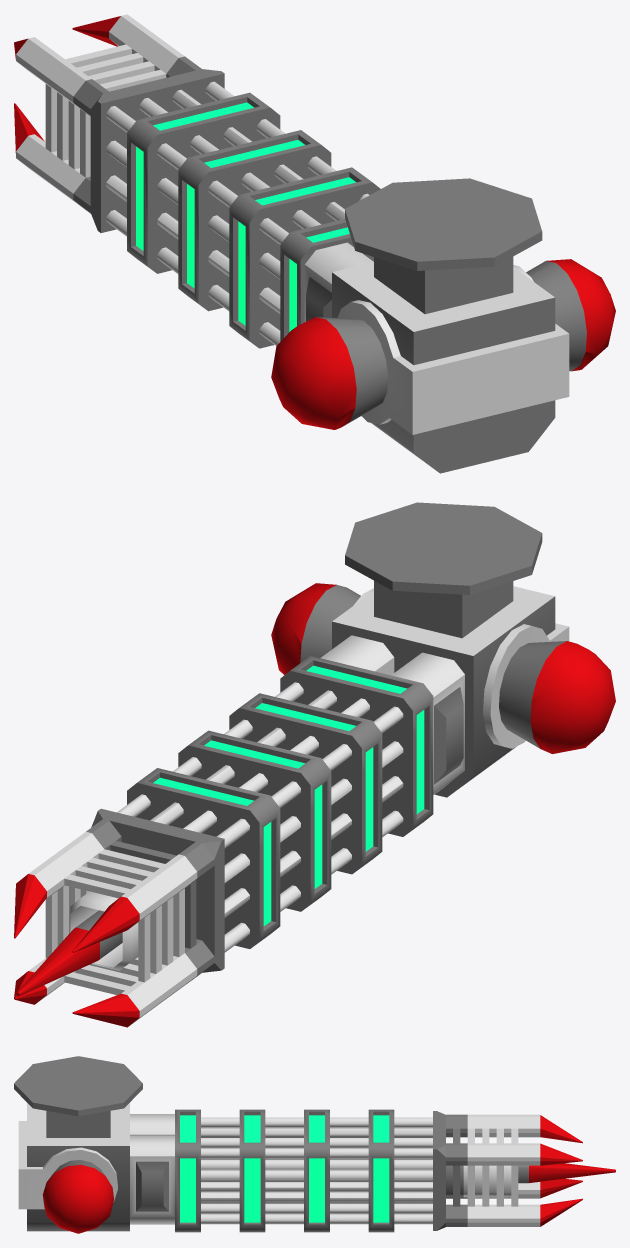
The model's file is 2_EMPWeapon1.fbx.
The picture shows the model from 3 angles, top to bottom: view 1: azimuth 30°, elevation 25°; view 2: azimuth 150°, elevation 25°; view 3: azimuth 270°, elevation 25°; orthographic projection. The views are drawn at different scales.
Visible parts, largest first — view 1: Barrel, Sides, MainBody, Mount, Tips, FrontTip; view 2: Barrel, Tips, Mount, Sides, MainBody, FrontTip; view 3: Barrel, Tips, MainBody, Mount, Sides, FrontTip.
Boxes of the visible parts, left/top/right/bottom form: Barrel: left=106, top=81, right=380, bottom=348; Sides: left=271, top=259, right=615, bottom=434; MainBody: left=304, top=242, right=555, bottom=473; Mount: left=345, top=178, right=542, bottom=314; Tips: left=14, top=14, right=201, bottom=213; FrontTip: left=90, top=69, right=224, bottom=232; Barrel: left=117, top=656, right=433, bottom=952; Tips: left=14, top=819, right=214, bottom=1027; Mount: left=345, top=502, right=542, bottom=638; Sides: left=271, top=583, right=615, bottom=753; MainBody: left=320, top=586, right=555, bottom=797; FrontTip: left=16, top=808, right=224, bottom=996; Barrel: left=175, top=1109, right=432, bottom=1232; Tips: left=446, top=1114, right=582, bottom=1226; MainBody: left=27, top=1103, right=174, bottom=1231; Mount: left=14, top=1056, right=142, bottom=1137; Sides: left=18, top=1121, right=117, bottom=1233; FrontTip: left=433, top=1111, right=615, bottom=1230.
Size of the model in its own units: 369 by 230 by 934.
